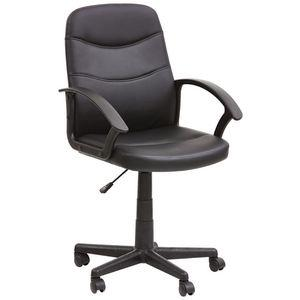chair: (51, 3, 248, 300)
